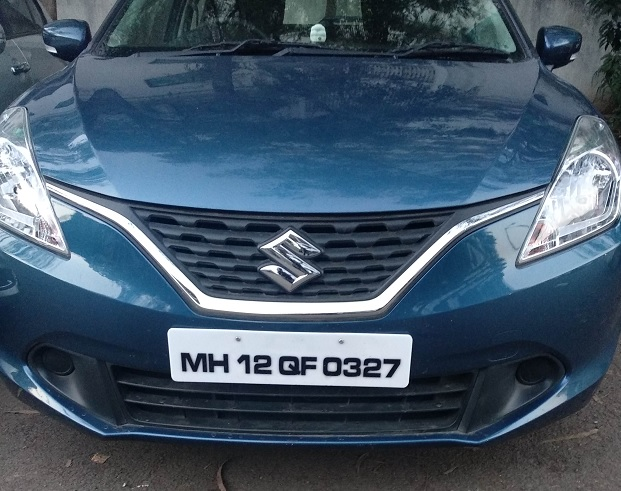licenseplate: (164, 325, 415, 390)
